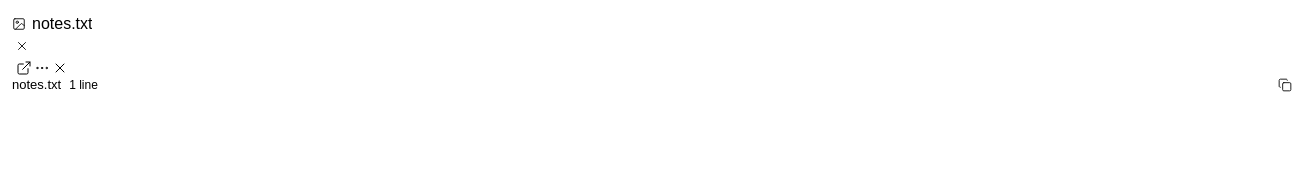
ArtifactViewer tooltips follow the panel’s open state › names Open externally after the delay while the panel is open
Hover over the button named "Open externally".
mouse_move(24, 68)  # box [16,60,32,76]
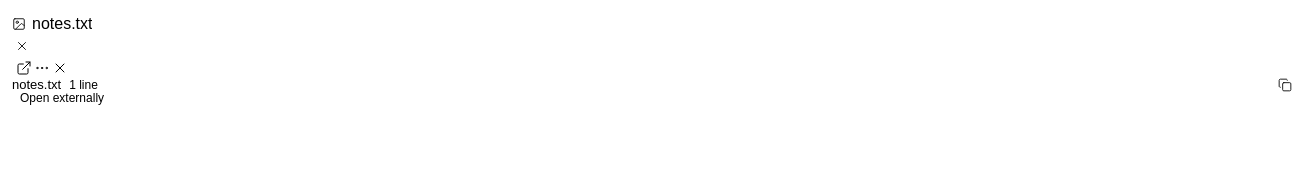
Expected: the tooltip reads "Open externally", [20,91,104,105]
